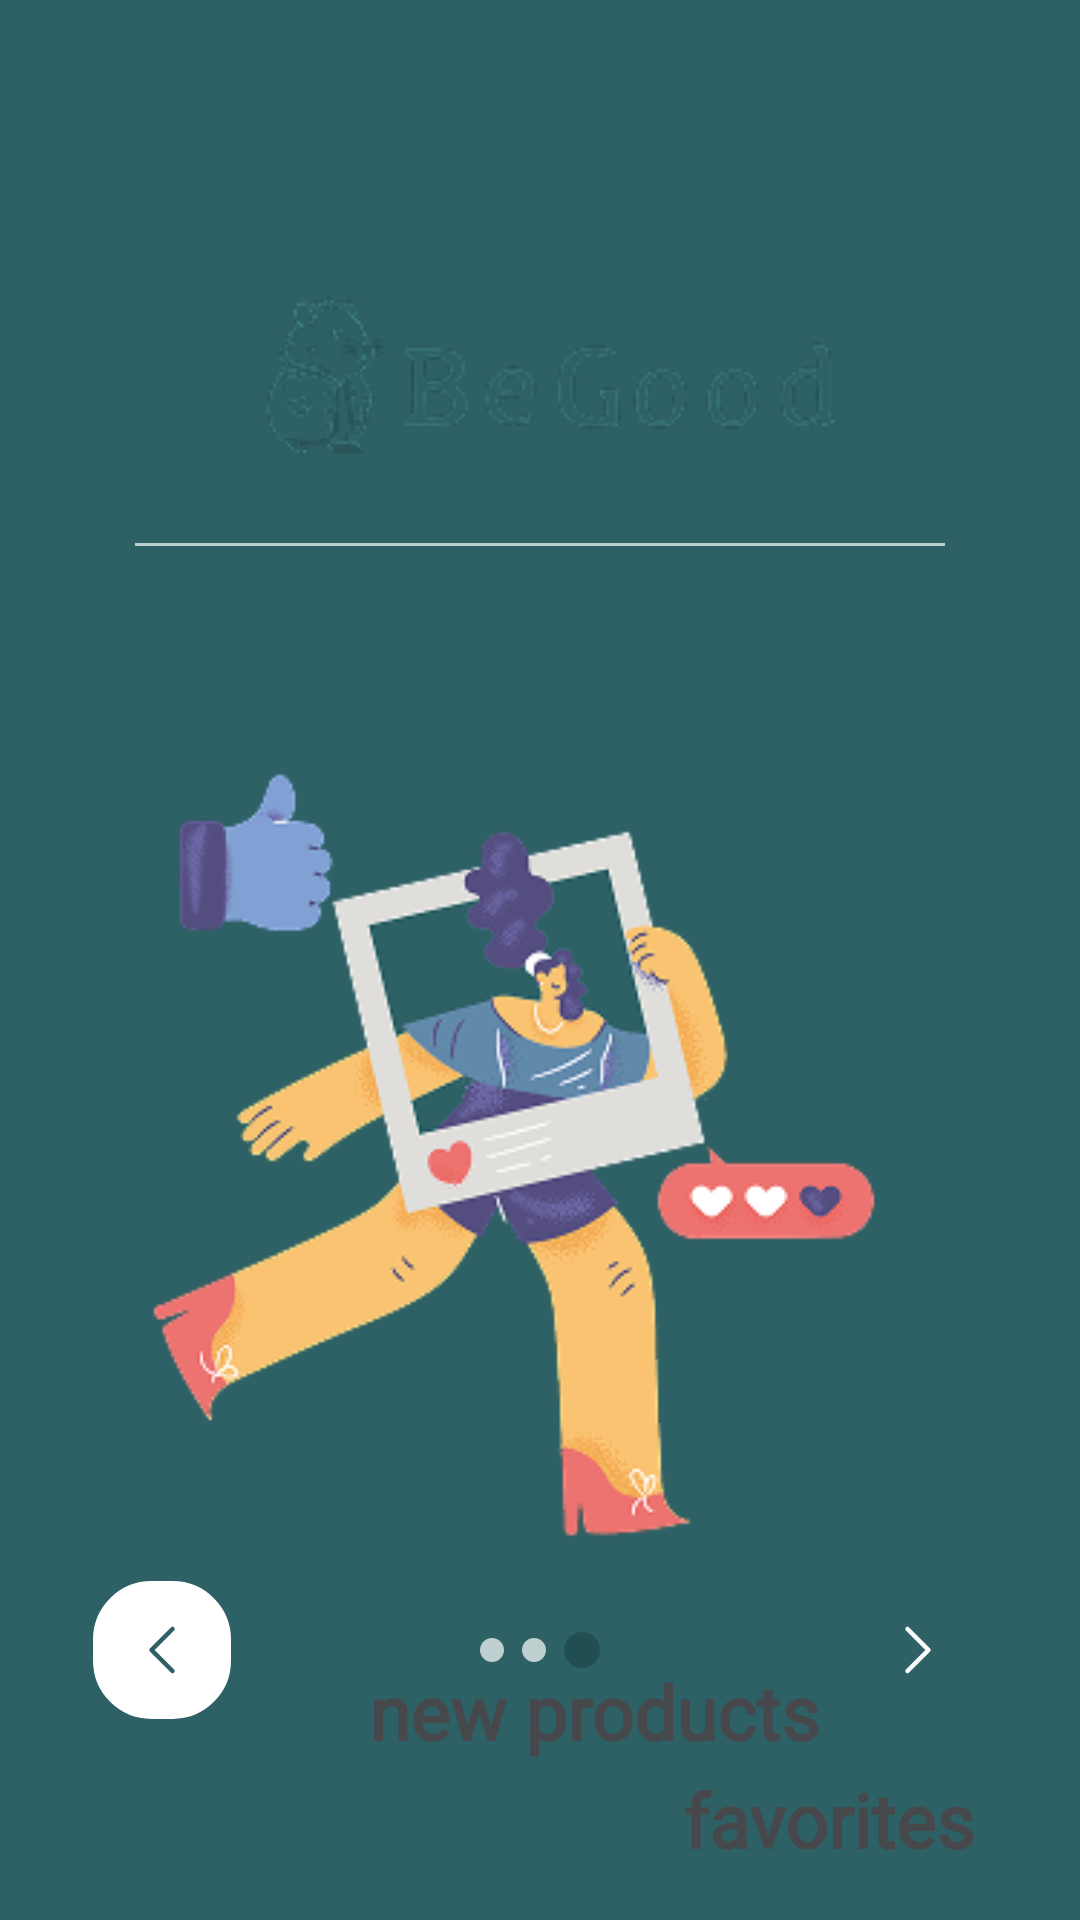

Named icons in this screenshot (1080w x 1920h) and their bounding boxes, (left=x1, top=y1, right=x2, bottom=y2):
arrow left: (left=93, top=1581, right=231, bottom=1719)
arrow right: (left=905, top=1626, right=931, bottom=1674)
